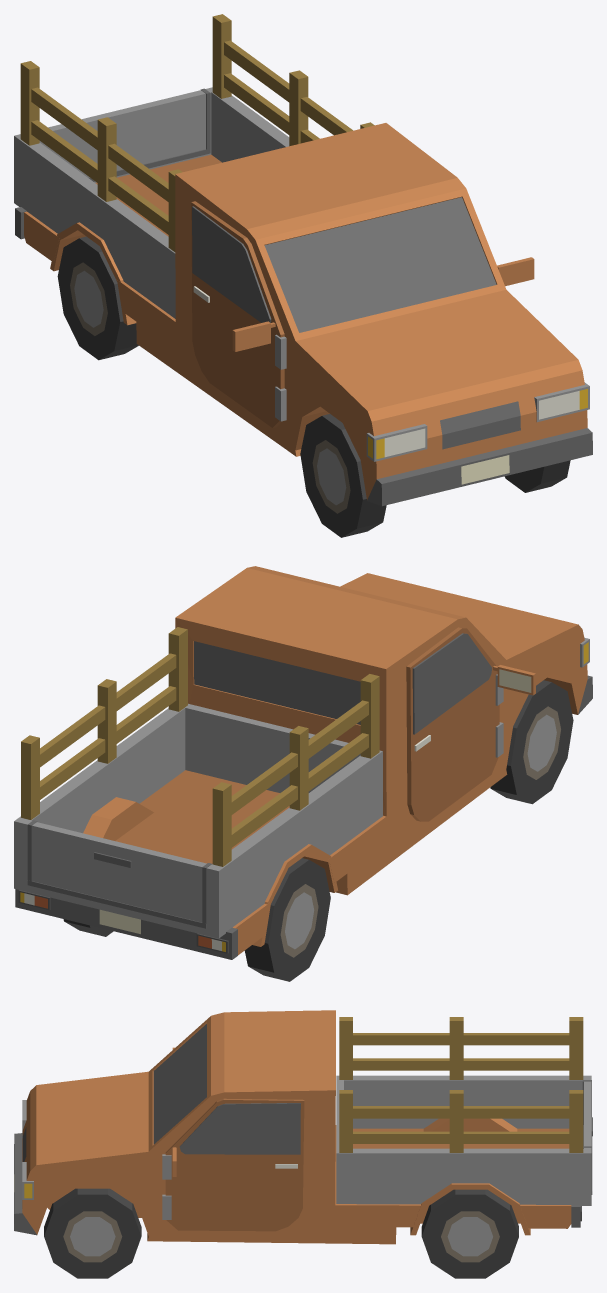
The model's file is kar3_1.fbx.
The picture shows the model from 3 angles, top to bottom: view 1: azimuth 30°, elevation 25°; view 2: azimuth 150°, elevation 25°; view 3: azimuth 270°, elevation 25°; orthographic projection. The views are drawn at different scales.
Visible parts, largest first — view 1: Cube_1, Cylinder_2, Cylinder, Cylinder_4; view 2: Cube_1, Cylinder, Cylinder_2; view 3: Cube_1, Cylinder_4, Cylinder_5.
Boxes of the visible parts, x1,y1,x2,y2 form: Cube_1: (14, 14, 592, 506); Cylinder_2: (300, 414, 386, 537); Cylinder: (57, 236, 138, 360); Cylinder_4: (504, 460, 570, 492); Cube_1: (14, 566, 592, 959); Cylinder: (244, 858, 330, 981); Cylinder_2: (490, 680, 573, 804); Cube_1: (14, 1010, 592, 1244); Cylinder_4: (44, 1188, 141, 1278); Cylinder_5: (421, 1189, 518, 1278).
Bounding box in the file's own units: 213 × 165 × 458.
